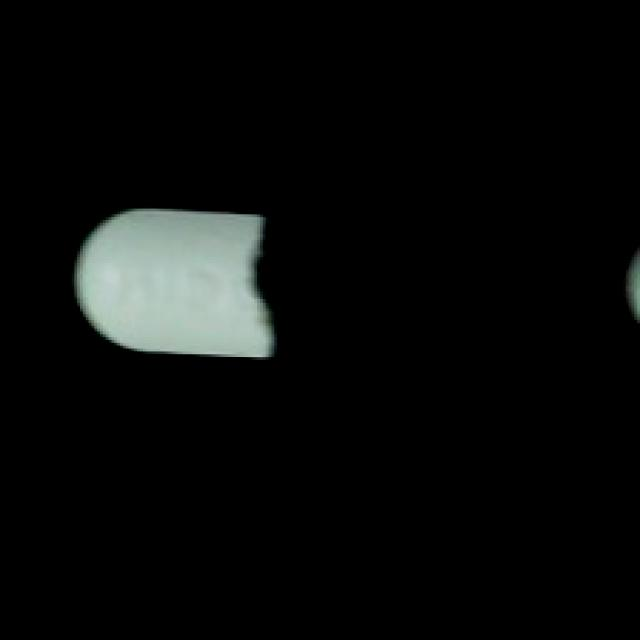defected: (69, 197, 283, 363)
